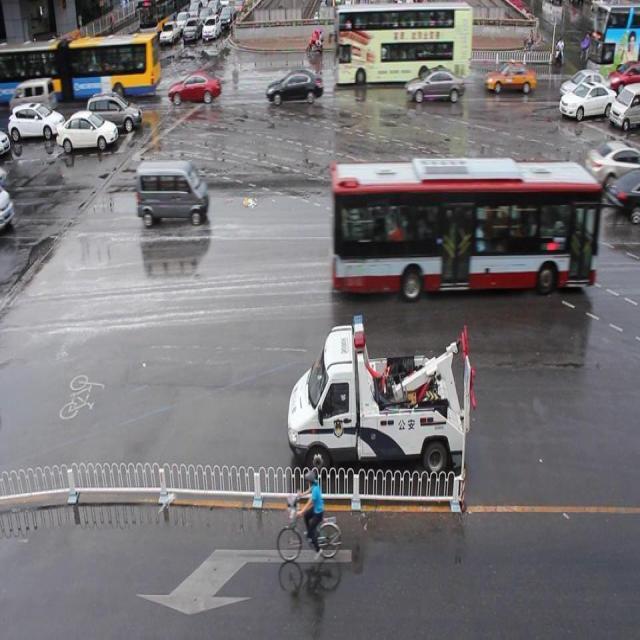BigCar: (323, 140, 606, 327), (333, 1, 476, 89), (1, 31, 162, 99)
car: (272, 308, 479, 490), (122, 151, 217, 232), (55, 106, 118, 164), (264, 61, 329, 117), (406, 64, 473, 114), (6, 97, 64, 148), (84, 93, 144, 140), (164, 64, 220, 114), (484, 54, 539, 101), (559, 78, 612, 122), (612, 81, 640, 131), (158, 15, 180, 51), (181, 12, 201, 48), (202, 12, 224, 44)
